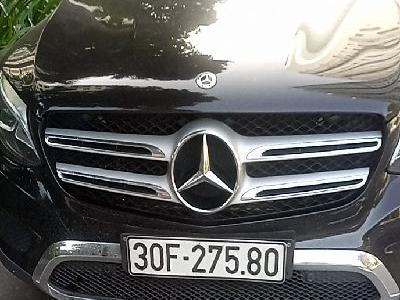number: (125, 234, 281, 281)
